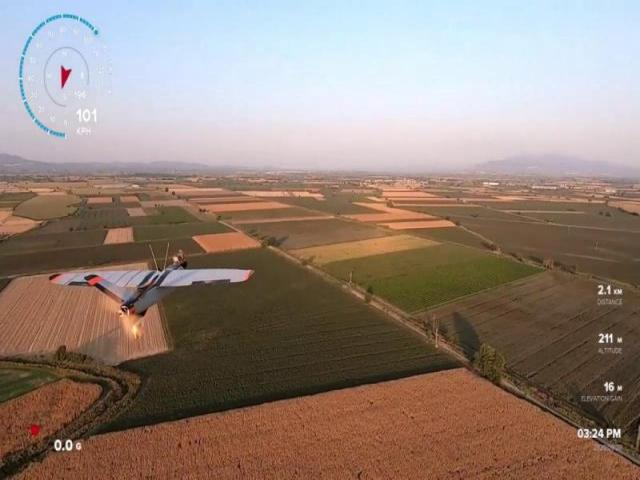hedef: (46, 251, 260, 331)
